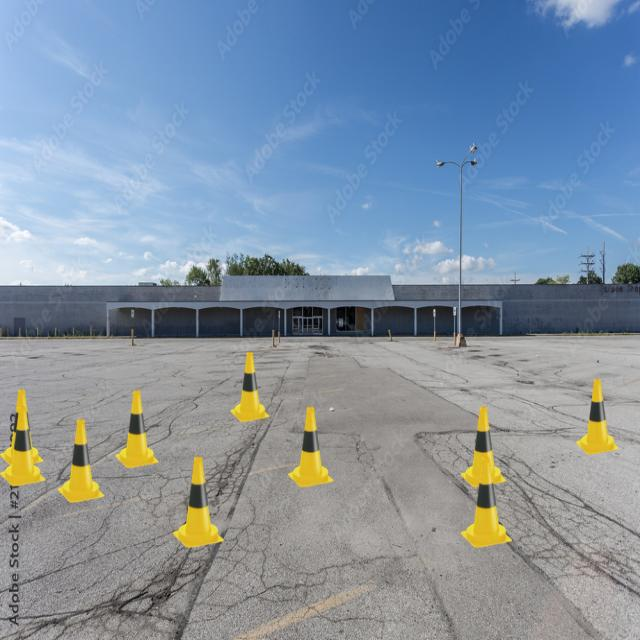yellow_cone: (461, 457, 512, 548), (173, 457, 224, 548), (58, 419, 104, 503), (0, 405, 45, 486), (461, 407, 506, 487), (288, 407, 333, 487), (0, 390, 44, 467), (115, 391, 159, 468), (576, 379, 619, 455), (230, 352, 270, 422)
